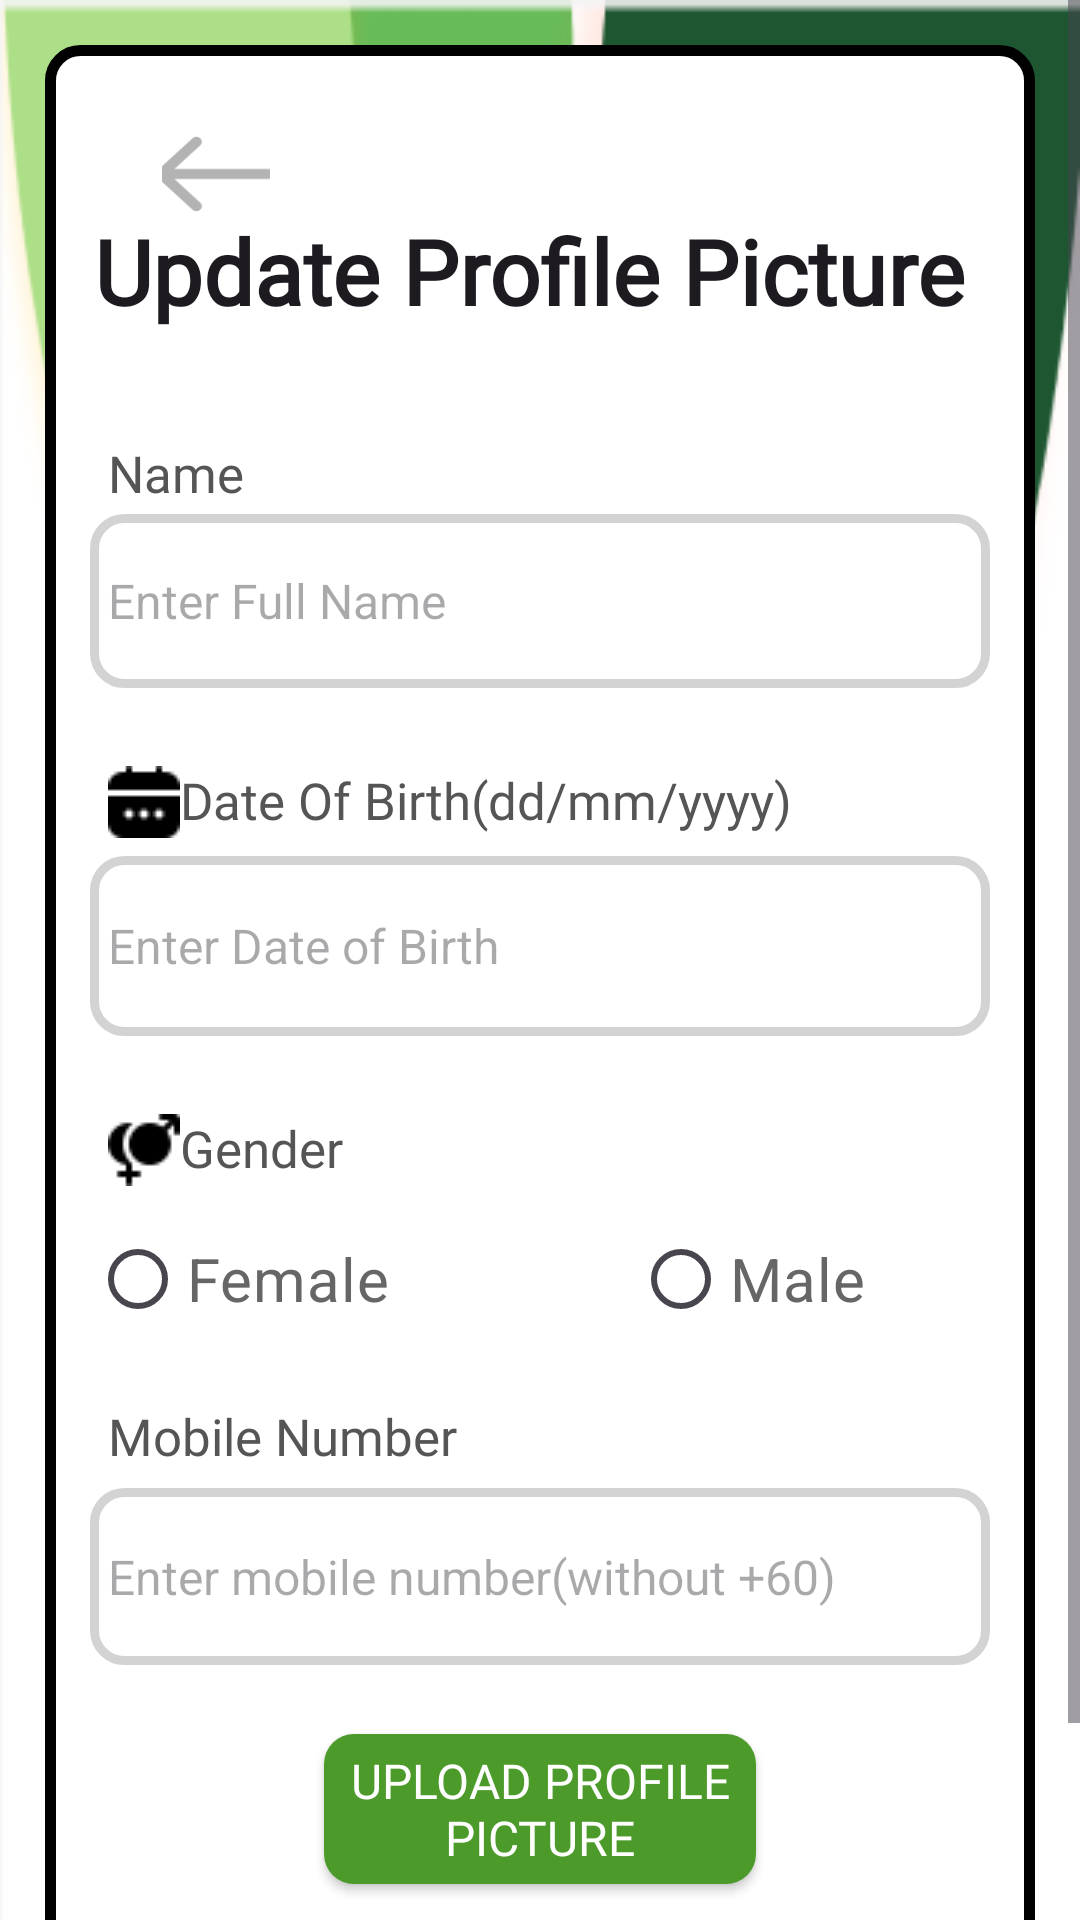

Icons on this 1080 × 1920 Android screen, each with its box as (x1, y1, x2, y2):
return button: (162, 137, 270, 211)
